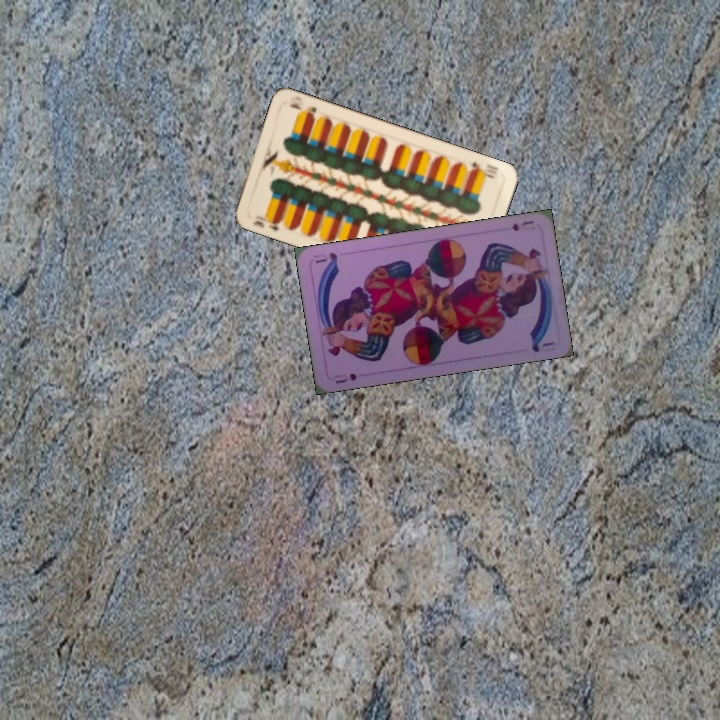E10: (467, 157, 501, 181), (249, 213, 285, 234)
SU: (330, 369, 360, 386), (508, 216, 536, 233)
